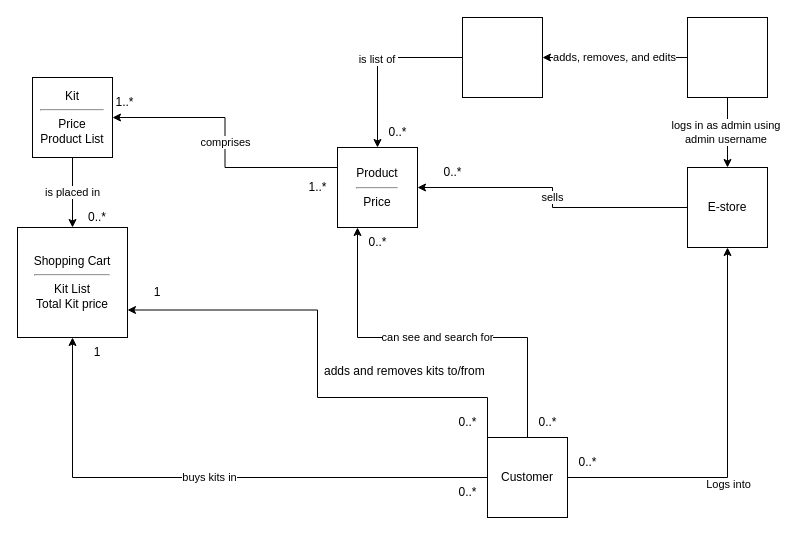
The diagram is 801 pixels wide and 535 high, and some of its shapes have lost their labels. The centre of each missing label's shape, as x and y in pixels:
"Inventory" belongs at pixel 502 57.
"Owner" belongs at pixel 727 57.
